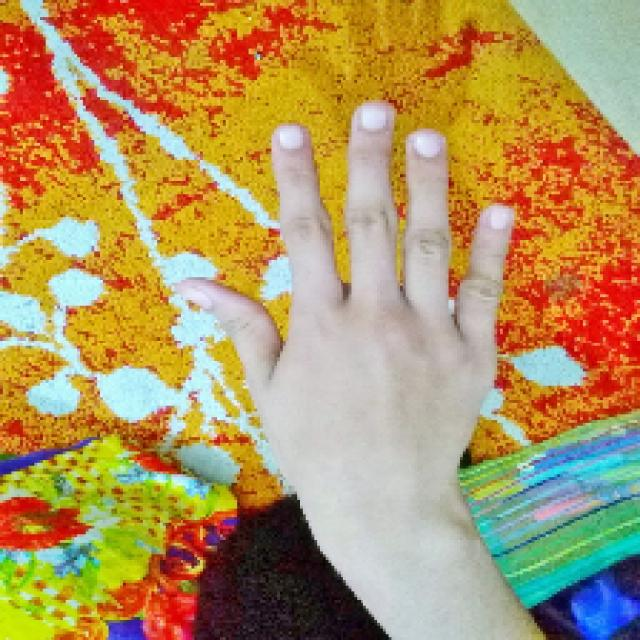Nail: (358, 100, 389, 132), (411, 129, 445, 158), (275, 124, 305, 150), (179, 286, 210, 309), (490, 204, 514, 228)
